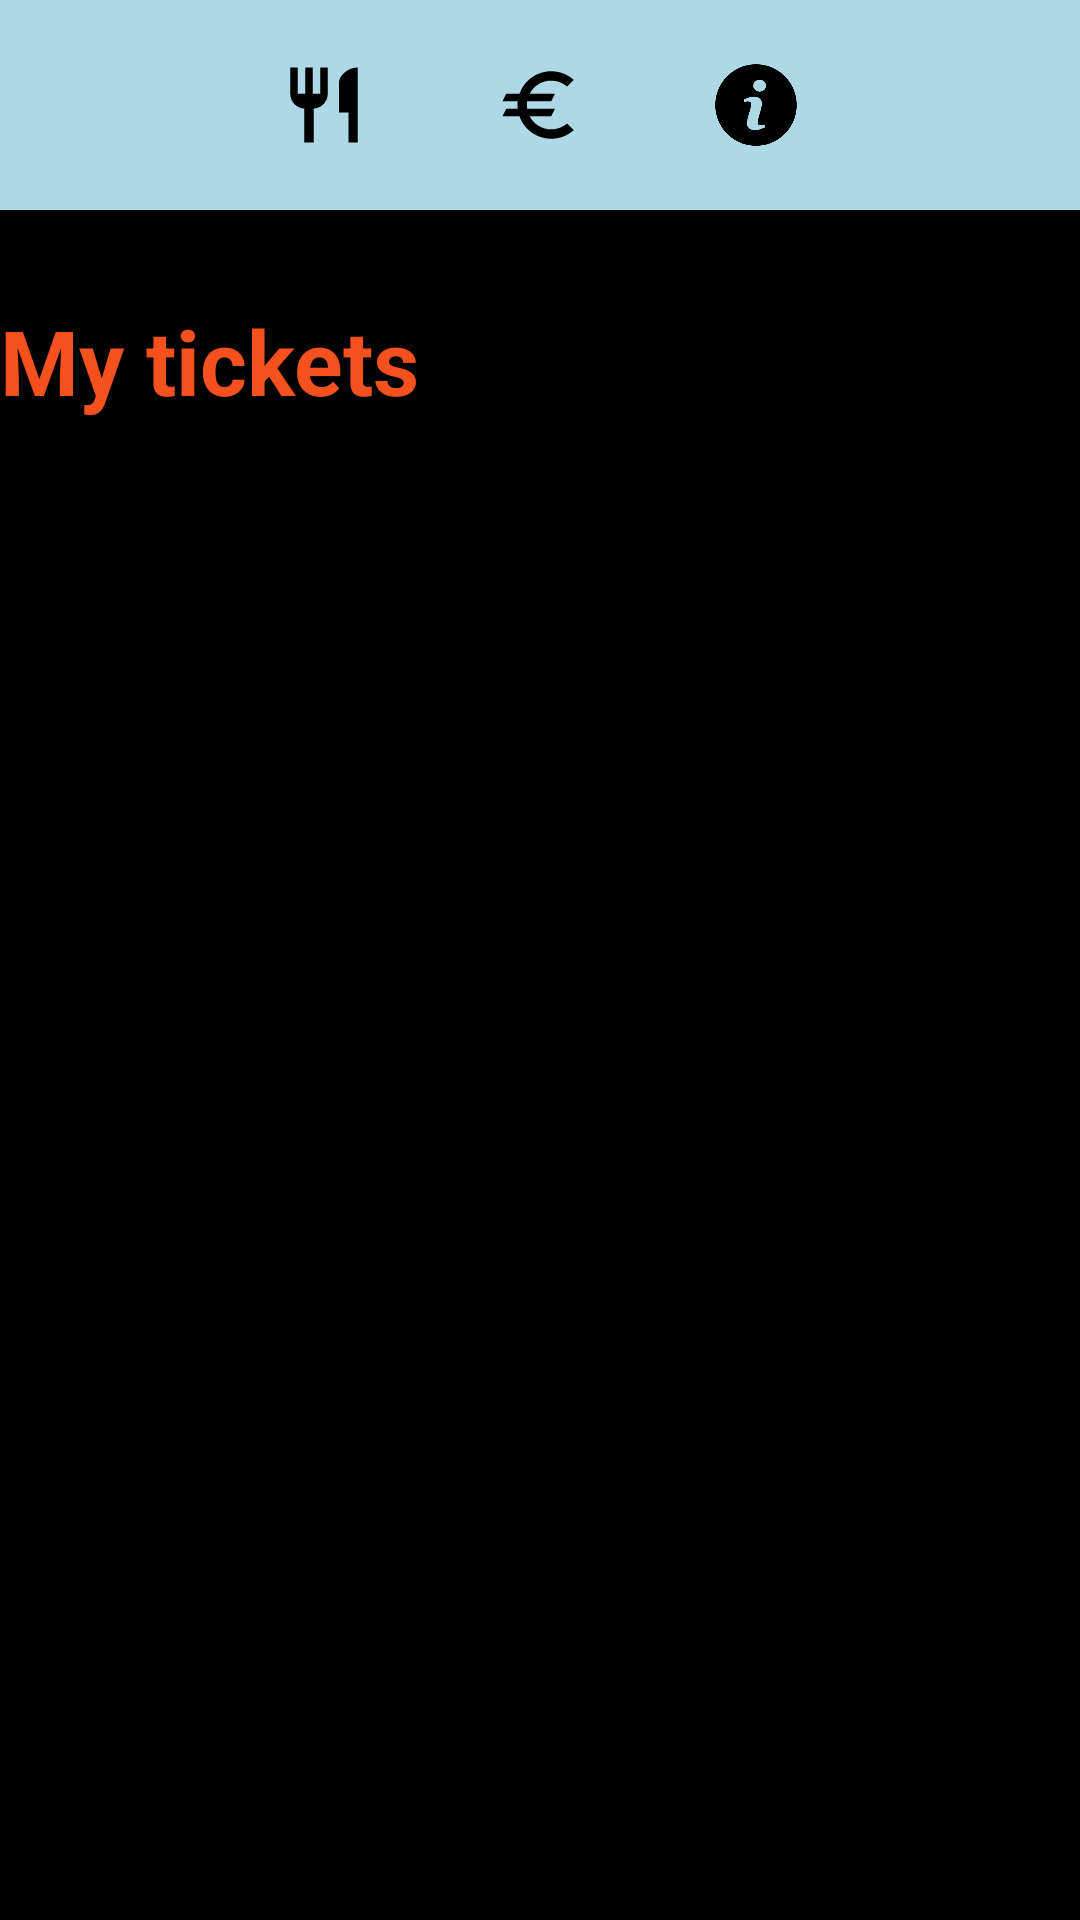

Named icons in this screenshot (1080×1920) and their bounding boxes, (x1, y1, x2, y2):
euro: (502, 71, 574, 139)
info: (715, 64, 797, 146)
restaurant: (290, 67, 358, 143)
